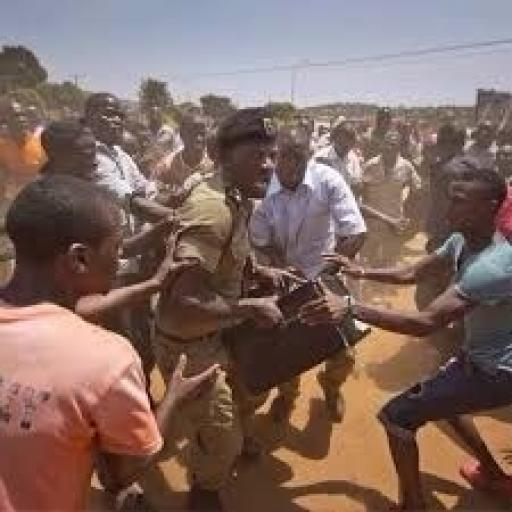running: (0, 173, 225, 510), (325, 152, 510, 510)
